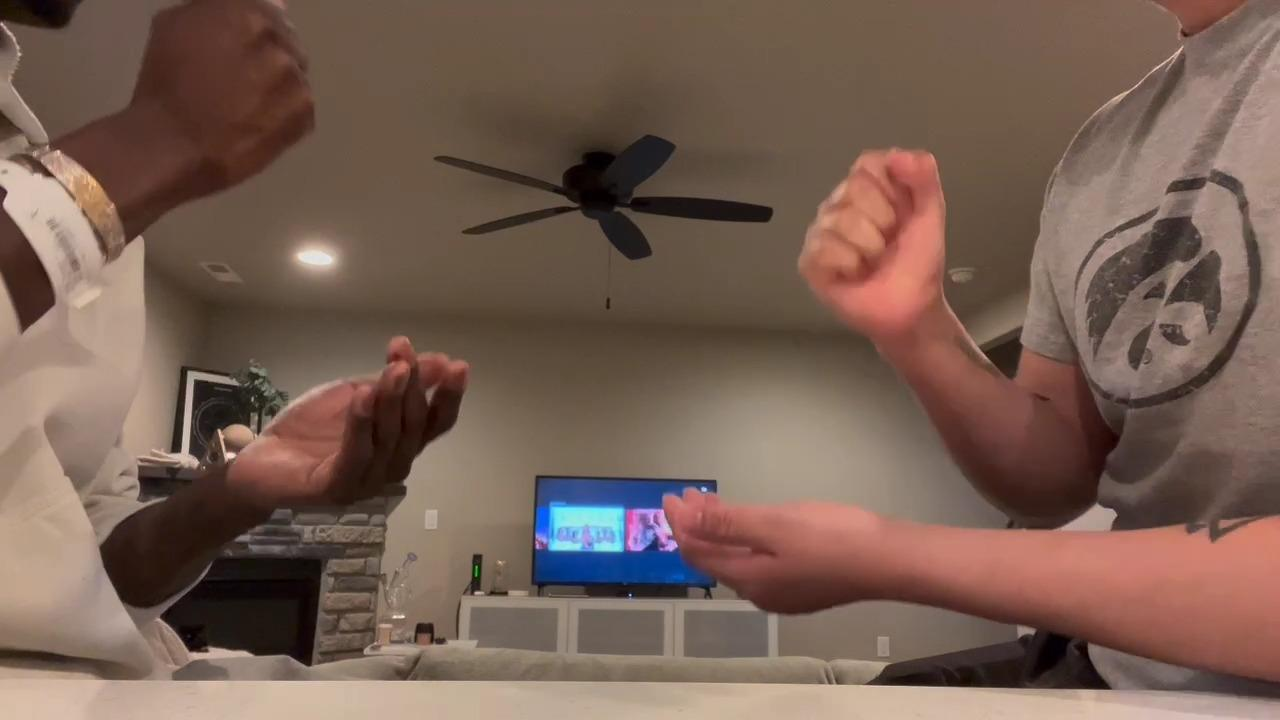Rock: (137, 0, 316, 184), (798, 140, 943, 344)
